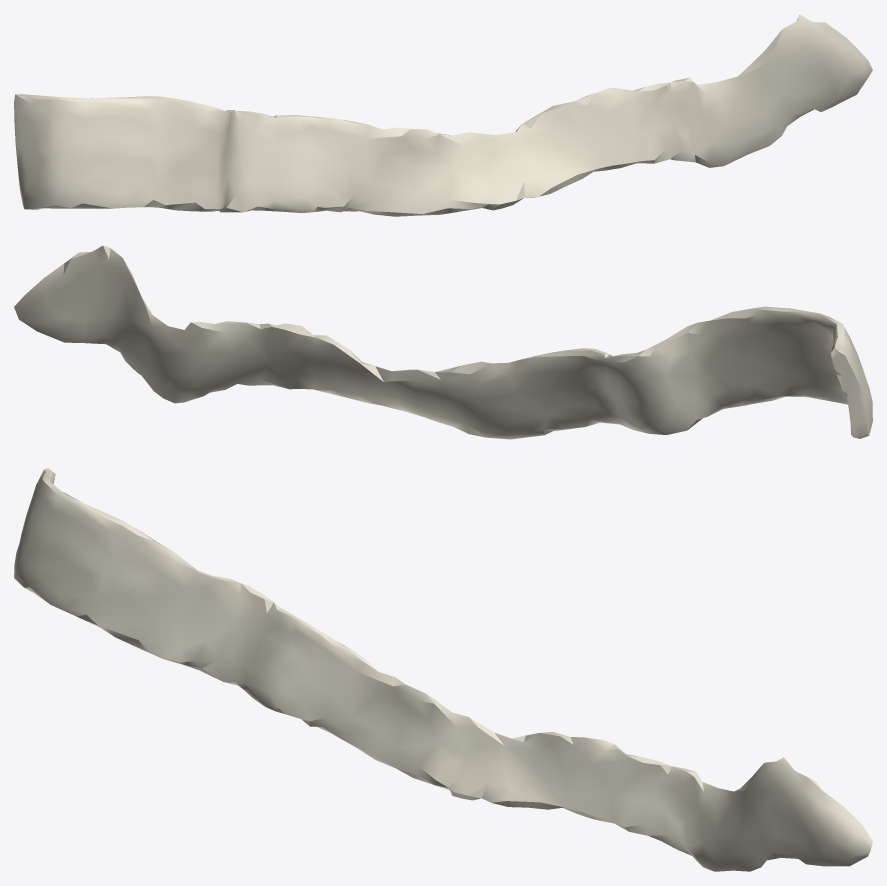
The model's file is fma42463_mm1957m.glb.
3 views of the same model, one above another, from view 1: azimuth 30°, elevation 25°; view 2: azimuth 150°, elevation 25°; view 3: azimuth 330°, elevation 25° (orthographic).
Parts seen in each view (by area): view 1: FMA42463_MM1957M; view 2: FMA42463_MM1957M; view 3: FMA42463_MM1957M.
Part boxes in pixels (x1,y1,x2,y2): FMA42463_MM1957M: (14, 14, 872, 216); FMA42463_MM1957M: (14, 245, 872, 439); FMA42463_MM1957M: (14, 468, 872, 871).
Bounding box in the file's own units: 0.0717 × 0.0188 × 0.00758.
